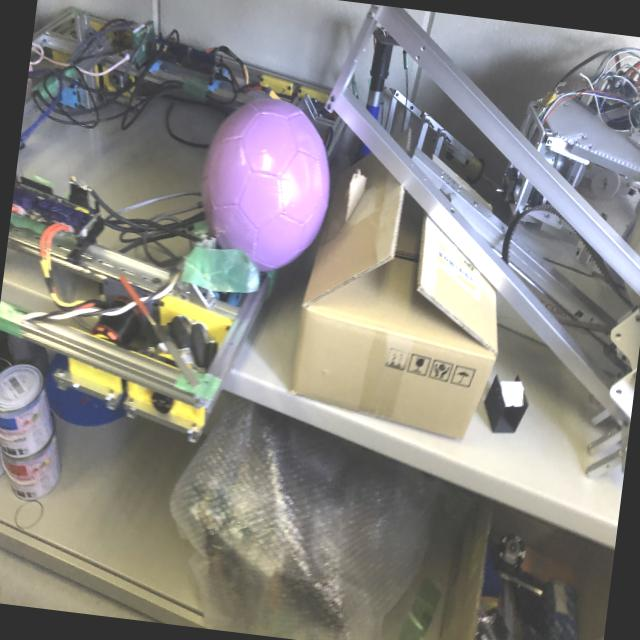purple_ball: (192, 92, 340, 276)
